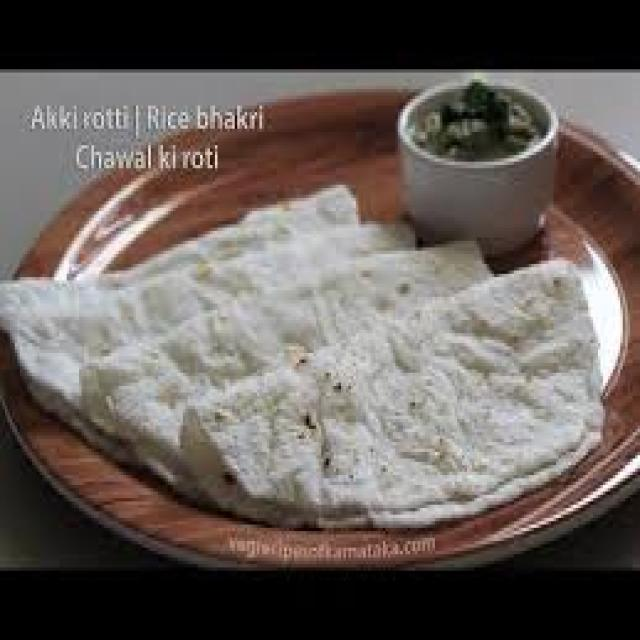RICE BHAKRI: (180, 261, 600, 515), (82, 244, 489, 468), (0, 188, 413, 406)
